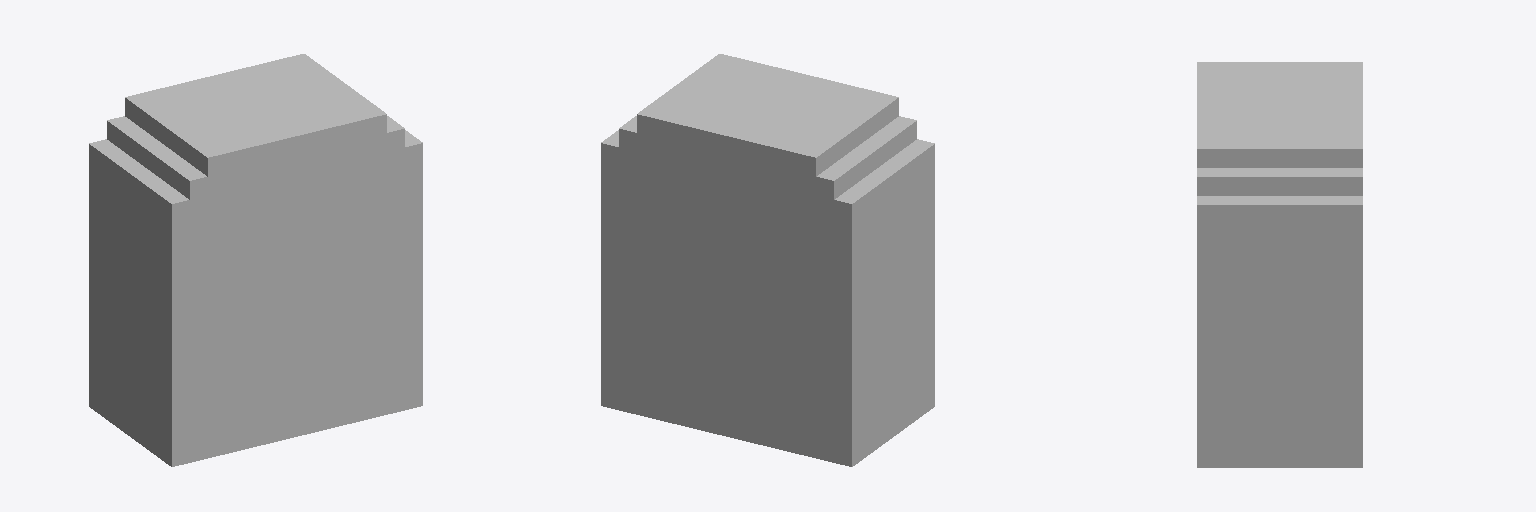
Rendered from torso.obj.
The picture shows the model from 3 angles: view 1: azimuth 30°, elevation 25°; view 2: azimuth 150°, elevation 25°; view 3: azimuth 270°, elevation 25°; orthographic projection.
Bounding box in the file's own units: 1.4 × 1.6 × 0.8.